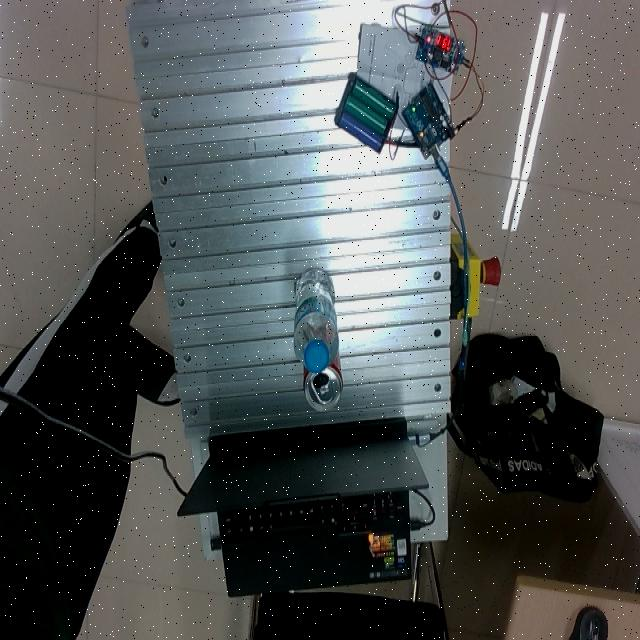coca: (303, 347, 344, 412)
lavie: (293, 270, 340, 378)
